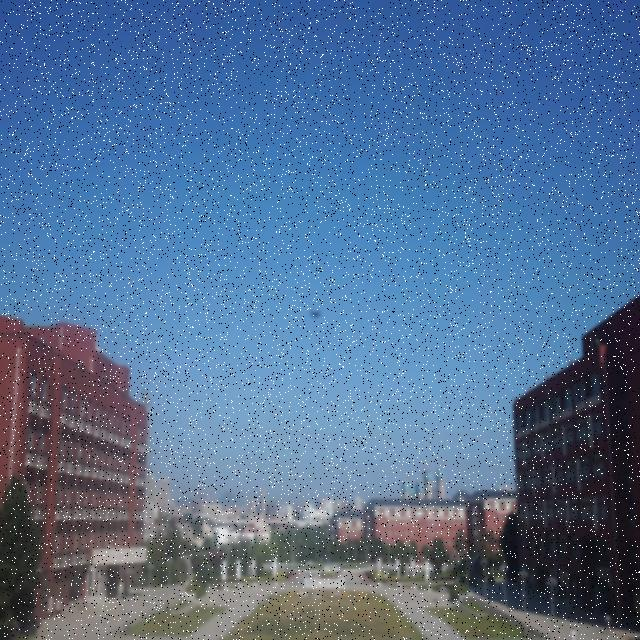UAV: (309, 309, 322, 319)
